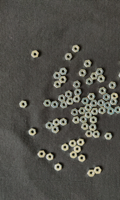nut: (94, 167, 102, 175), (74, 146, 82, 154), (77, 139, 85, 147), (105, 133, 113, 141), (93, 131, 101, 139), (80, 116, 88, 124), (85, 111, 93, 119), (51, 101, 59, 109), (54, 81, 62, 89), (59, 76, 67, 84), (54, 72, 62, 80), (60, 68, 68, 76), (31, 50, 39, 58), (84, 60, 92, 68), (65, 53, 73, 61), (88, 170, 96, 177), (55, 164, 62, 172), (79, 155, 86, 163), (38, 151, 46, 158), (70, 151, 77, 159), (62, 144, 69, 152), (70, 140, 77, 148), (52, 126, 59, 134), (46, 122, 53, 130), (53, 119, 60, 127), (60, 119, 68, 126), (90, 124, 97, 132), (82, 123, 89, 131), (90, 117, 98, 124), (108, 108, 115, 116), (99, 107, 106, 115), (98, 100, 106, 107), (105, 102, 112, 110), (110, 99, 118, 106), (111, 93, 119, 100), (103, 94, 111, 101), (44, 100, 52, 107), (61, 101, 68, 109), (65, 91, 73, 98), (82, 98, 90, 105), (100, 87, 107, 95), (109, 82, 117, 89), (74, 81, 81, 89), (87, 78, 94, 86), (98, 76, 106, 83), (91, 73, 99, 80), (96, 69, 104, 76), (79, 70, 87, 77), (73, 45, 80, 53), (47, 154, 54, 161), (29, 129, 36, 136), (86, 131, 93, 138), (73, 117, 80, 124), (92, 109, 99, 116), (79, 108, 86, 115), (72, 109, 79, 116), (91, 100, 98, 107), (20, 101, 27, 108), (67, 98, 74, 105), (59, 95, 66, 102), (74, 96, 81, 103), (75, 89, 82, 96), (85, 105, 93, 111), (88, 94, 96, 100), (115, 107, 120, 114), (119, 72, 120, 79)
